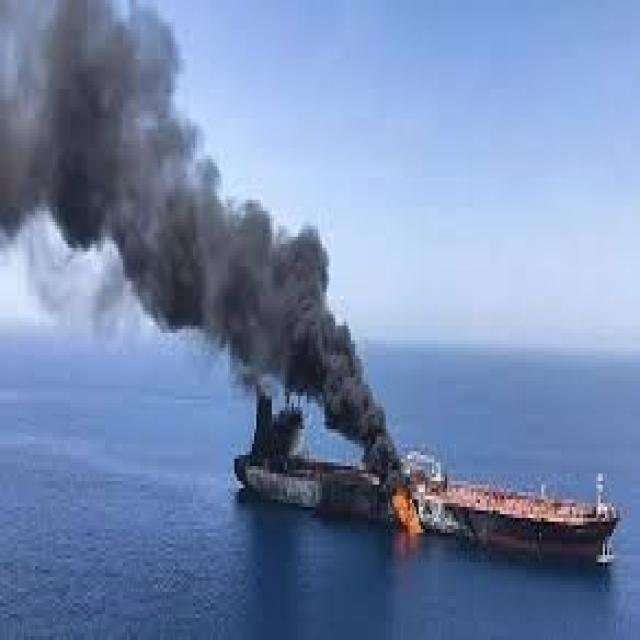cargoship: (230, 376, 620, 566)
